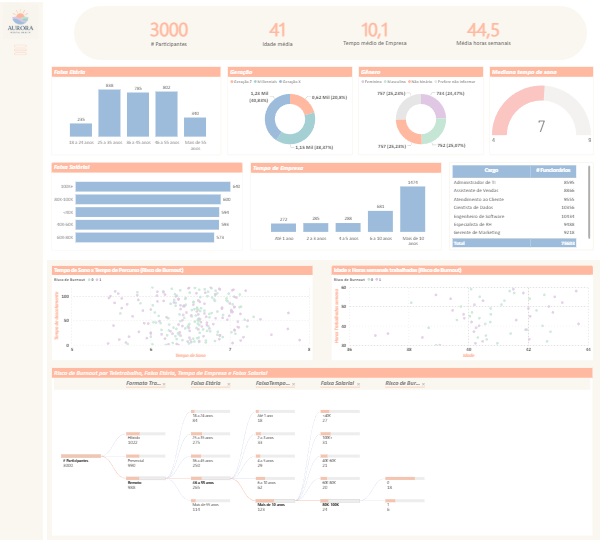

What the dashboard file says about the page in this screenshot:
{"tool":"powerbi","page":{"name":"Oficial","canvas":[2050,1820],"ordinal":0},"visuals":[{"type":"shape","box":[165,860,1850,942.5],"z":0},{"type":"decompositionTreeVisual","title":"Risco de Burnout por Teletrabalho, Faixa Etária, Tempo de Empresa e Faixa Salarial","fields":{"ExplainBy":["Mental_saude.Formato Trabalho","Mental_saude.FaixaIdade","Mental_saude.FaixaTempoEmpresa","Mental_saude.SalaryRange","Mental_saude.BurnoutRisk"],"Analyze":["CountNonNull(Mental_saude.EmployeeID)"]},"box":[180,1215,1807.5,565],"z":1000},{"type":"scatterChart","title":"Idade x Horas semanais trabalhadas (Risco de Burnout)","fields":{"Series":["Mental_saude.Risco de Burnout"],"Y":["Mental_saude.WorkHoursPerWeek"],"X":["Avg(Mental_saude.Age)"]},"box":[1112.5,877.5,875,320],"z":2000},{"type":"scatterChart","title":"Tempo de Sono x Tempo de Percurso (Risco de Burnout)","fields":{"X":["Avg(Mental_saude.SleepHoursCorrigido)"],"Series":["Mental_saude.Risco de Burnout"],"Y":["Sum(Mental_saude.CommuteTime)"]},"box":[180,877.5,875,320],"z":3000},{"type":"shape","box":[258,14,1710,180],"z":4000},{"type":"columnChart","title":"Tempo de Empresa","fields":{"Category":["mental_health_workplace_survey.FaixaTempoEmpresa"],"Y":["CountNonNull(mental_health_workplace_survey.EmployeeID)"]},"box":[842.5,532.5,640,295],"z":5000},{"type":"barChart","title":"Faixa Salárial","fields":{"Category":["mental_health_workplace_survey.SalaryRange"],"Y":["CountNonNull(mental_health_workplace_survey.EmployeeID)"]},"box":[180,532.5,640,295],"z":6000},{"type":"card","fields":{"Values":["CountNonNull(mental_health_workplace_survey.EmployeeID)"]},"box":[464,34,220,130],"z":7000},{"type":"columnChart","title":"Faixa Etária","fields":{"Category":["mental_health_workplace_survey.FaixaIdade"],"Y":["CountNonNull(mental_health_workplace_survey.EmployeeID)"]},"box":[180,212.5,567.5,297.5],"z":8000},{"type":"shape","box":[0,0,152.5,1820],"z":10000},{"type":"image","box":[8.3,0,136.7,128.3],"z":11000},{"type":"card","fields":{"Values":["Avg(mental_health_workplace_survey.Age)"]},"box":[820,32,230,132],"z":12000},{"type":"card","fields":{"Values":["Avg(mental_health_workplace_survey.YearsAtCompany)"]},"box":[1146,34,226,130],"z":13000},{"type":"tableEx","fields":{"Values":["Mental_saude.Cargo_PT","Sum(mental_health_workplace_survey.TeamSize)"]},"box":[1505,532.5,482.5,295],"z":14000},{"type":"donutChart","title":"Geração","fields":{"Category":["Mental_saude.Genero_PT","mental_health_workplace_survey.Geracao"],"Y":["CountNonNull(mental_health_workplace_survey.EmployeeID)"]},"box":[765,213.3,420,296.7],"z":15000},{"type":"donutChart","title":"Gênero","fields":{"Y":["CountNonNull(mental_health_workplace_survey.EmployeeID)"],"Series":["Mental_saude.Genero_PT"]},"box":[1201.7,213.3,420,296.7],"z":16000},{"type":"image","title":"Fecha","box":[0,127.1,155.7,65.7],"z":28000},{"type":"card","fields":{"Values":["Avg(mental_health_workplace_survey.WorkHoursPerWeek)"]},"box":[1506,34,230,130],"z":30000},{"type":"gauge","title":"Mediana tempo de sono","fields":{"Y":["Median(mental_health_workplace_survey.SleepHoursCorrigido)"],"MinValue":["Min(mental_health_workplace_survey.SleepHoursCorrigido)1"],"MaxValue":["Max(mental_health_workplace_survey.SleepHoursCorrigido)2"]},"box":[1638.3,213.3,350,296.7],"z":31000}]}

Visuals, with their boxes in screenshot pixels (x1, y1, x2, y2), scaled from the page's 2050x1820 canvas onto the 600x540 screenshot:
shape: x1=48 y1=255 x2=590 y2=535
"Risco de Burnout por Teletrabalho, Faixa Etária, Tempo de Empresa e Faixa Salarial" decompositionTreeVisual: x1=53 y1=360 x2=582 y2=528
"Idade x Horas semanais trabalhadas (Risco de Burnout)" scatterChart: x1=326 y1=260 x2=582 y2=355
"Tempo de Sono x Tempo de Percurso (Risco de Burnout)" scatterChart: x1=53 y1=260 x2=309 y2=355
shape: x1=76 y1=4 x2=576 y2=58
"Tempo de Empresa" columnChart: x1=247 y1=158 x2=434 y2=246
"Faixa Salárial" barChart: x1=53 y1=158 x2=240 y2=246
card - CountNonNull(mental_health_workplace_survey.EmployeeID): x1=136 y1=10 x2=200 y2=49
"Faixa Etária" columnChart: x1=53 y1=63 x2=219 y2=151
shape: x1=0 y1=0 x2=45 y2=539
image: x1=2 y1=0 x2=42 y2=38
card - Avg(mental_health_workplace_survey.Age): x1=240 y1=9 x2=307 y2=49
card - Avg(mental_health_workplace_survey.YearsAtCompany): x1=335 y1=10 x2=402 y2=49
tableEx - Mental_saude.Cargo_PT x Sum(mental_health_workplace_survey.TeamSize): x1=440 y1=158 x2=582 y2=246
"Geração" donutChart: x1=224 y1=63 x2=347 y2=151
"Gênero" donutChart: x1=352 y1=63 x2=475 y2=151
"Fecha" image: x1=0 y1=38 x2=46 y2=57
card - Avg(mental_health_workplace_survey.WorkHoursPerWeek): x1=441 y1=10 x2=508 y2=49
"Mediana tempo de sono" gauge: x1=480 y1=63 x2=582 y2=151
